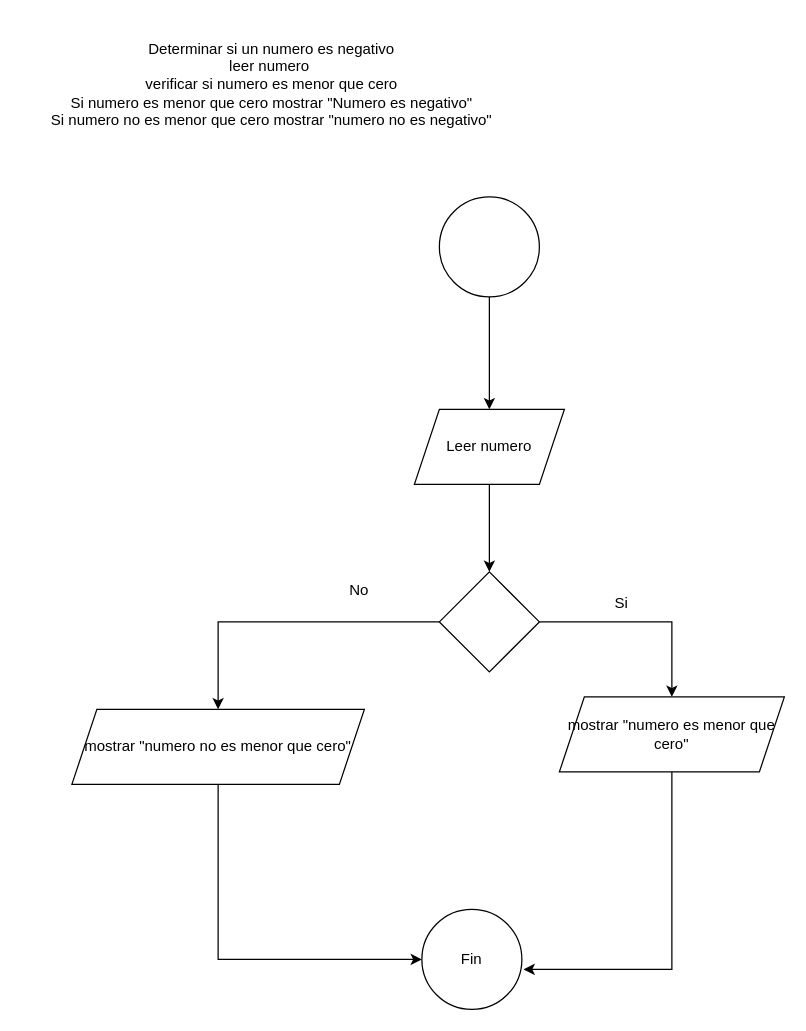
This 806x1031 diagram has some shape labels left out. The shapes that lost their labels are listed below. From the top down, each one's centre as x and y in pixels, then its label:
At (x=488, y=246): "inicio".
At (x=488, y=621): "numero < 0".
